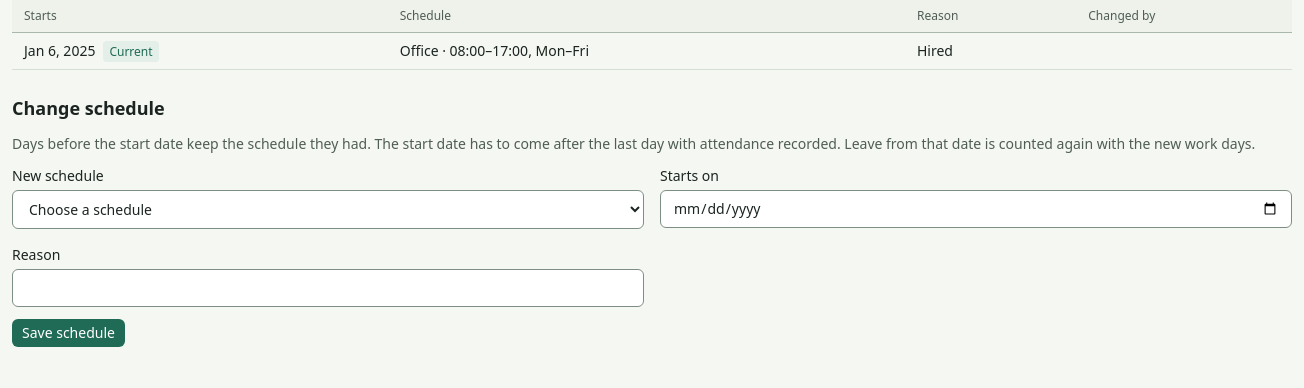
Test: ScheduleTab › points at missing fields before sending
Expected: the cell "Office · 08:00–17:00, Mon–Fri" is shown, [388,32,893,70]
Step 1. Click the button "Save schedule" → {"x": 68, "y": 333}, box [12,319,125,347]
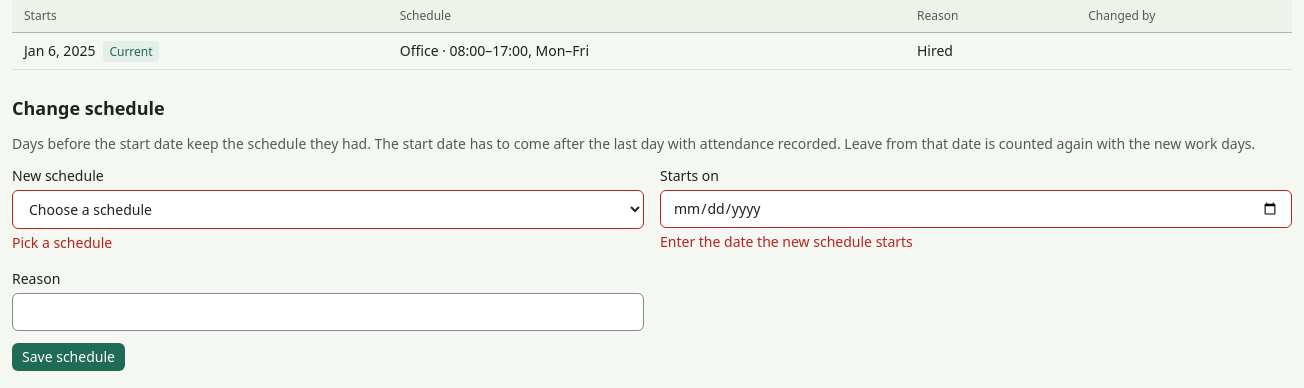
Expected: the text "Pick a schedule" is shown, [12,233,112,252]
Expected: the text "Enter the date the new schedule starts" is shown, [660,232,913,251]
